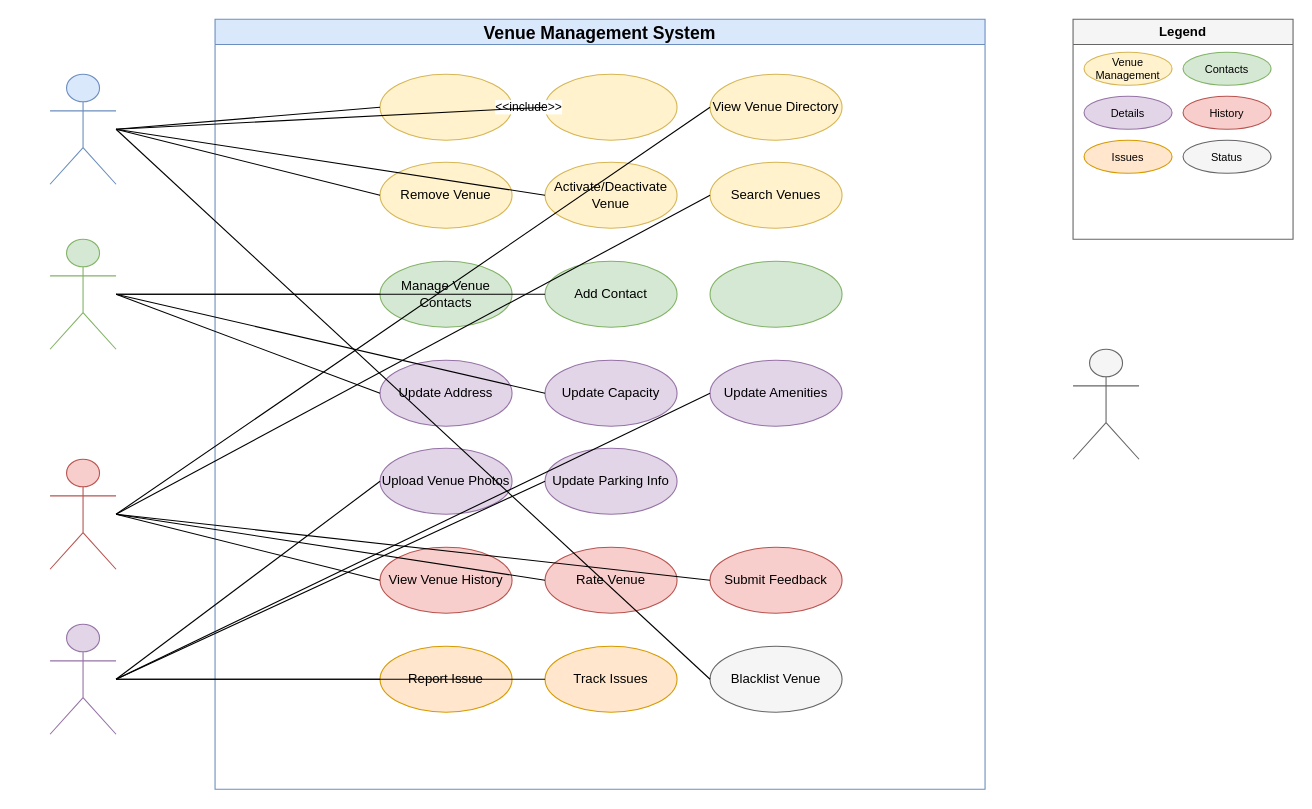
This 1312x809 diagram has some shape labels left out. The centre of each missing label's shape, as x and y in pixels:
Add Venue: pixel 445 106
Event Planner: pixel 82 513
External System: pixel 1105 403
Update Contact: pixel 775 293
Update Venue Details: pixel 610 106
Venue Administrator: pixel 82 128
Venue Coordinator: pixel 82 678
Venue Manager: pixel 82 293
